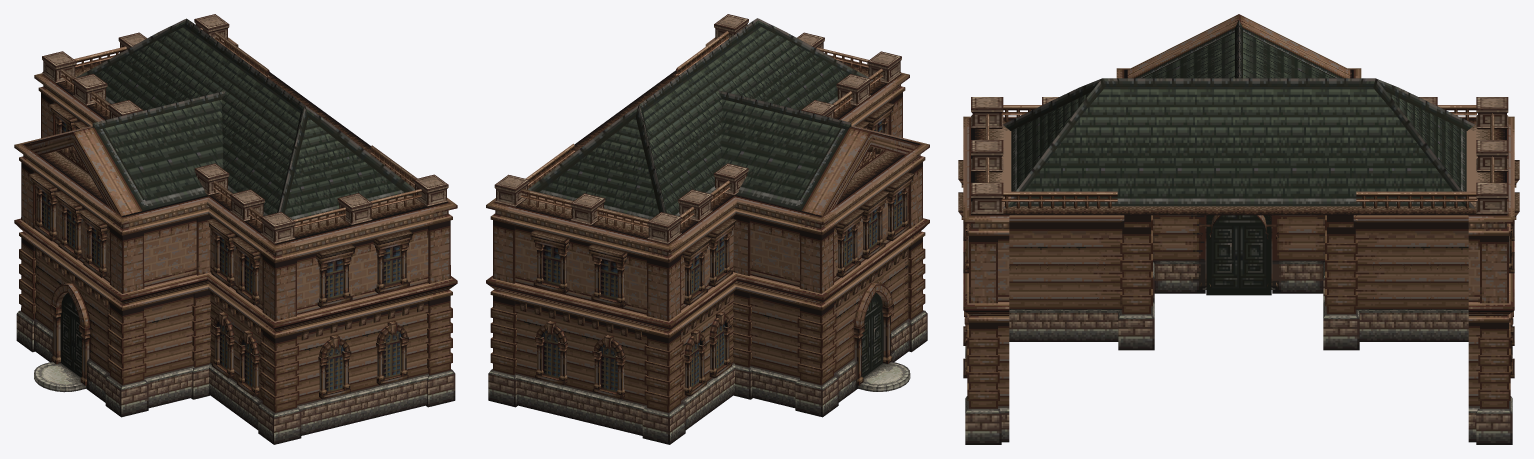
Rendered from EnvBdgMD_Sea_GuardStation_A.FBX.
The picture shows the model from 3 angles, left to right: view 1: azimuth 30°, elevation 25°; view 2: azimuth 150°, elevation 25°; view 3: azimuth 270°, elevation 25°; orthographic projection. The views are drawn at different scales.
Parts seen in each view (by area): view 1: EnvBdgMD_Sea_GuardStation_A; view 2: EnvBdgMD_Sea_GuardStation_A; view 3: EnvBdgMD_Sea_GuardStation_A.
Part boxes in pixels (bbox=[...]): EnvBdgMD_Sea_GuardStation_A: bbox=[14, 14, 457, 444]; EnvBdgMD_Sea_GuardStation_A: bbox=[486, 14, 929, 444]; EnvBdgMD_Sea_GuardStation_A: bbox=[958, 14, 1519, 444].
Bounding box in the file's own units: 1040 × 910 × 1466.
Materials: 1 (1 with a texture image).
